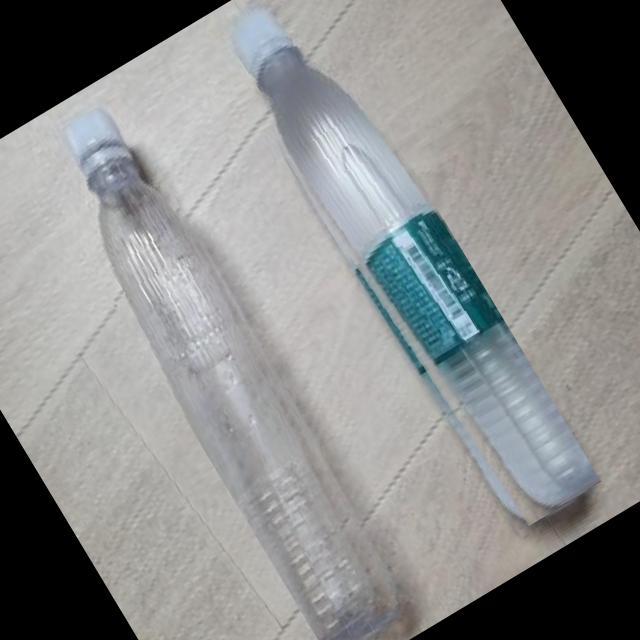plastic bottle: (25, 95, 423, 640), (203, 0, 601, 539)
